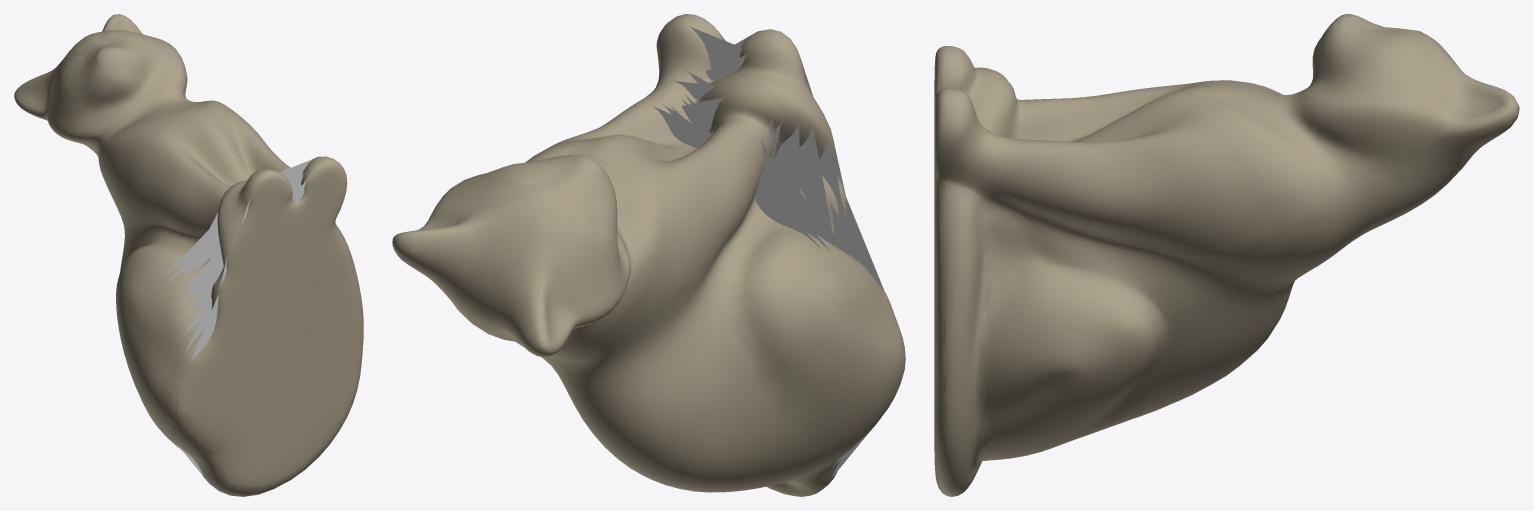
File: CatStatuePrinting.fbx
3 views of the same model, side by side, from view 1: azimuth 30°, elevation 25°; view 2: azimuth 150°, elevation 25°; view 3: azimuth 270°, elevation 25° (orthographic). The views are drawn at different scales.
Visible parts, largest first — view 1: Plane; view 2: Plane; view 3: Plane.
Part boxes in pixels (box(x1,y1,x2,y2)): Plane: box(14, 14, 363, 496); Plane: box(392, 14, 905, 496); Plane: box(934, 14, 1519, 496).
Bounding box in the file's own units: 15.3 × 25 × 28.3.
2 materials, 1 textured.
